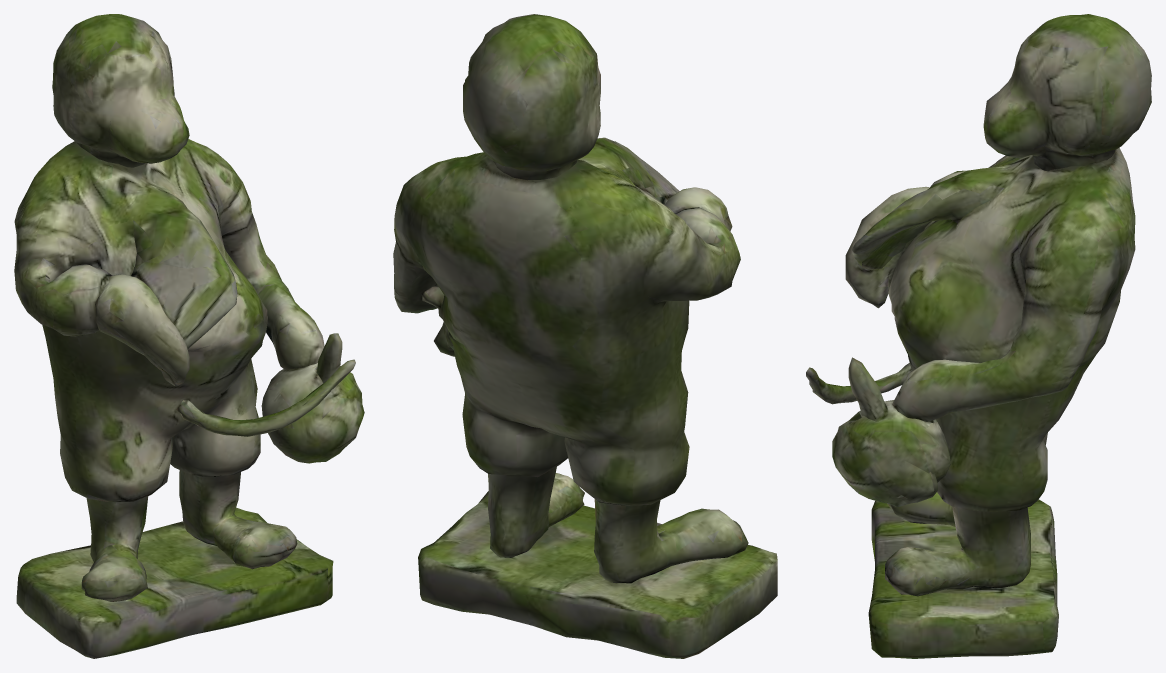
Rendered from jd_estatua.glb.
3 renders of one model, left to right at view 1: azimuth 30°, elevation 25°; view 2: azimuth 150°, elevation 25°; view 3: azimuth 270°, elevation 25°, orthographic. The views are drawn at different scales.
Parts seen in each view (by area): view 1: mesh_node.005; view 2: mesh_node.005; view 3: mesh_node.005.
Part boxes in pixels (x1,y1,x2,y2): mesh_node.005: (14, 14, 364, 658); mesh_node.005: (393, 14, 777, 658); mesh_node.005: (806, 14, 1151, 658).
Size of the model in its own units: 0.2051 by 0.3799 by 0.2056.
Materials: 1 (1 with a texture image).
